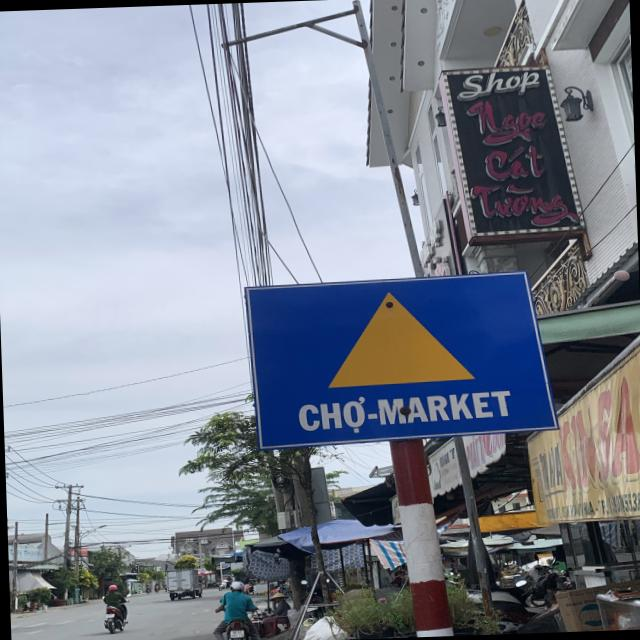Cho_Quay_Xe: (242, 269, 564, 446)
